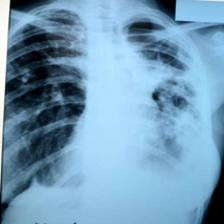tuberculosis: (3, 5, 211, 224)
